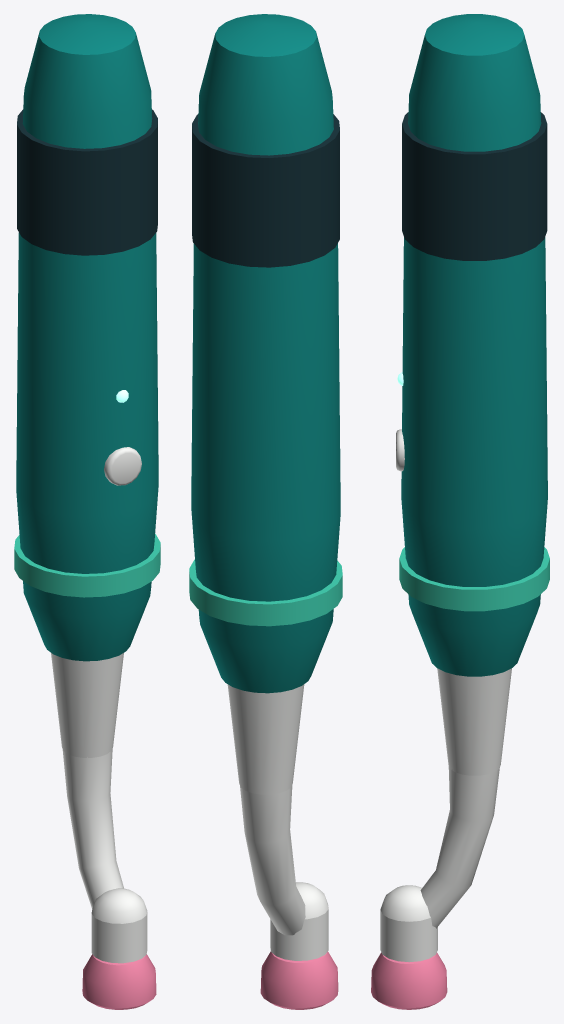
Rendered from tool_cordless.glb.
The picture shows the model from 3 angles, left to right: view 1: azimuth 30°, elevation 25°; view 2: azimuth 150°, elevation 25°; view 3: azimuth 270°, elevation 25°; orthographic projection. The views are drawn at different scales.
Parts seen in each view (by area): view 1: tool_cordless, Cup; view 2: tool_cordless, Cup; view 3: tool_cordless, Cup.
Boxes of the visible parts, box(x1,y1,x2,y2) form: tool_cordless: box(14, 14, 160, 963); Cup: box(82, 954, 156, 1009); tool_cordless: box(189, 14, 342, 960); Cup: box(260, 951, 338, 1009); tool_cordless: box(380, 14, 549, 962); Cup: box(371, 952, 447, 1009).
Bounding box in the file's own units: 1.14 × 8.2 × 1.37.
